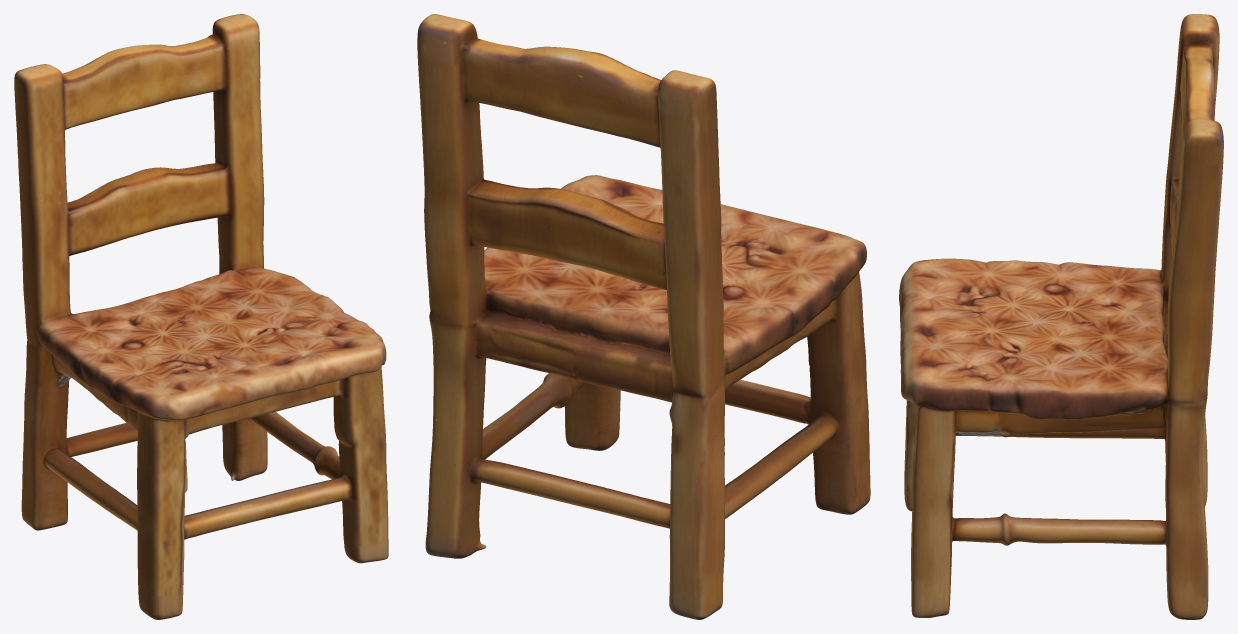
The model's file is chair.glb.
The picture shows the model from 3 angles, left to right: view 1: azimuth 30°, elevation 25°; view 2: azimuth 150°, elevation 25°; view 3: azimuth 270°, elevation 25°; orthographic projection. The views are drawn at different scales.
Parts seen in each view (by area): view 1: Mesh_0.001; view 2: Mesh_0.001; view 3: Mesh_0.001.
Boxes of the visible parts, x1,y1,x2,y2 form: Mesh_0.001: (14,14,388,619); Mesh_0.001: (417,14,870,619); Mesh_0.001: (899,14,1223,619).
Size of the model in its own units: 0.5248 by 0.9 by 0.5434.
1 material, 1 textured.
